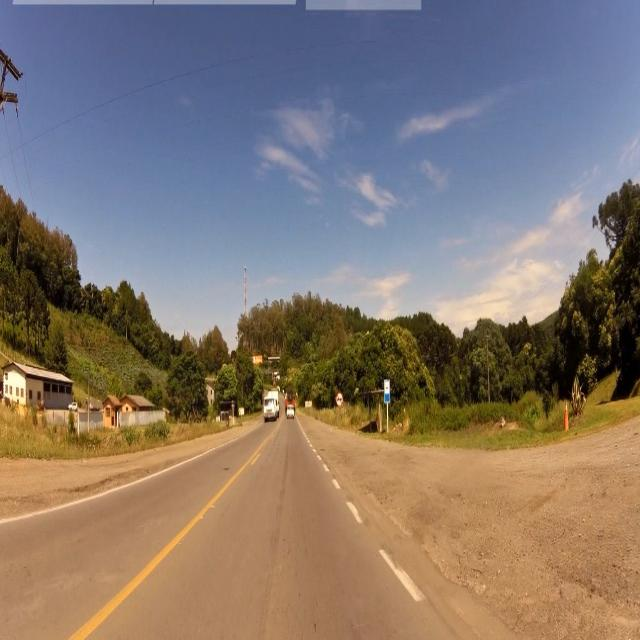S-14: (383, 379, 391, 405)
